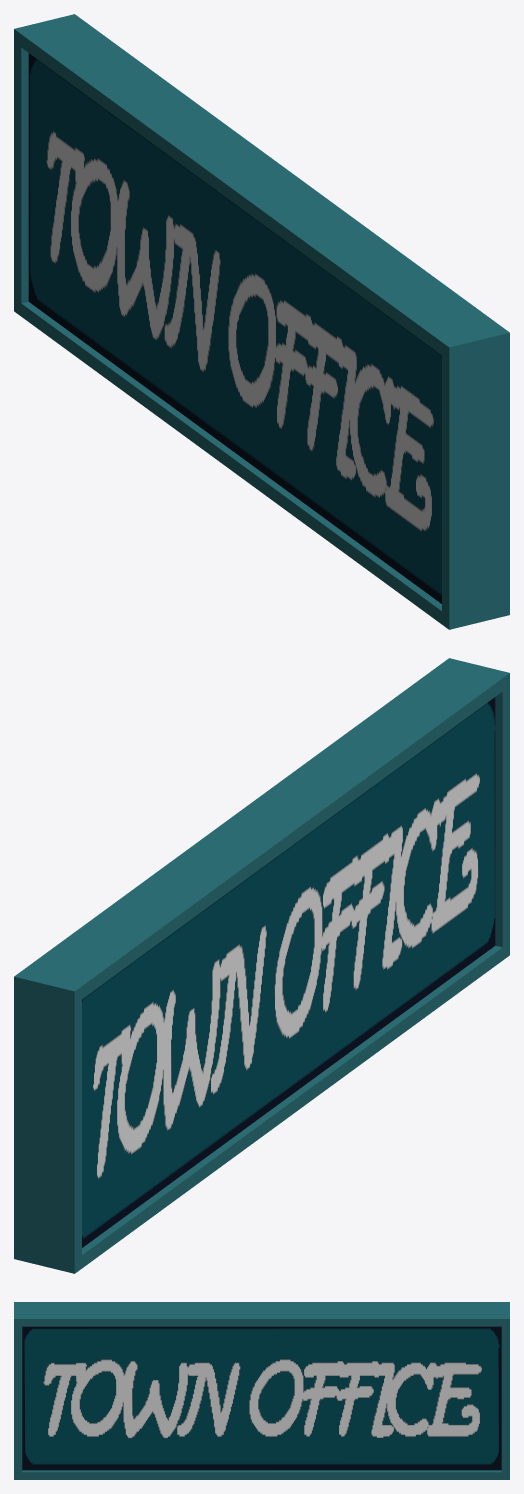
File: Sign_TownOffice.fbx
3 renders of one model, top to bottom at view 1: azimuth 30°, elevation 25°; view 2: azimuth 150°, elevation 25°; view 3: azimuth 270°, elevation 25°, orthographic. The views are drawn at different scales.
Parts seen in each view (by area): view 1: Cube.472; view 2: Cube.472; view 3: Cube.472.
Part boxes in pixels (bbox=[...]): Cube.472: bbox=[14, 14, 509, 629]; Cube.472: bbox=[14, 658, 509, 1273]; Cube.472: bbox=[14, 1302, 509, 1479].
Bounding box in the file's own units: 17.99 × 79.87 × 223.
